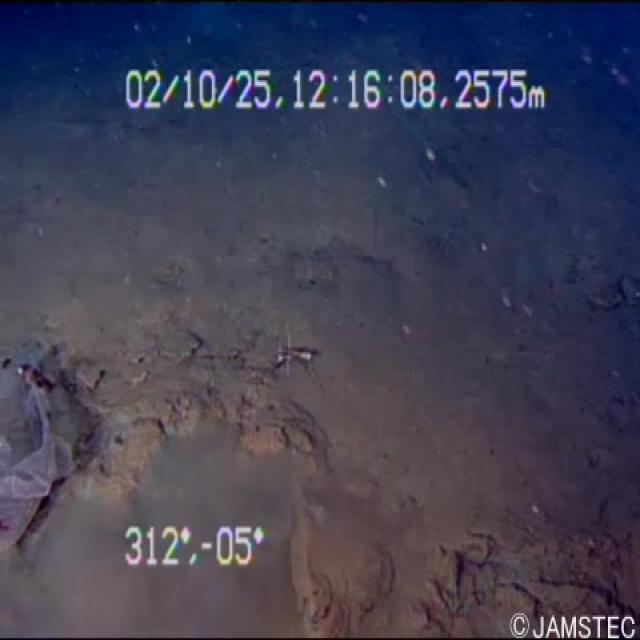plastic: (0, 338, 99, 569)
